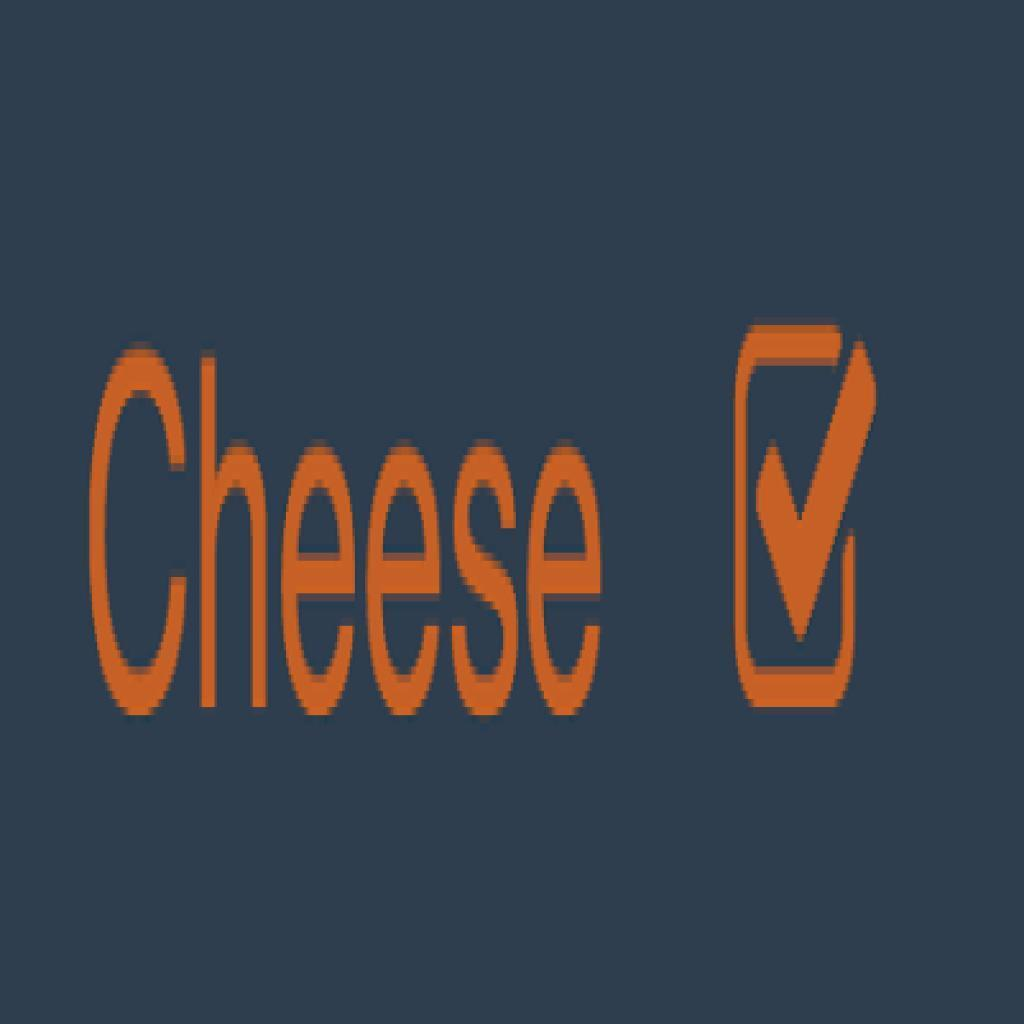checkbox: (728, 281, 885, 764)
